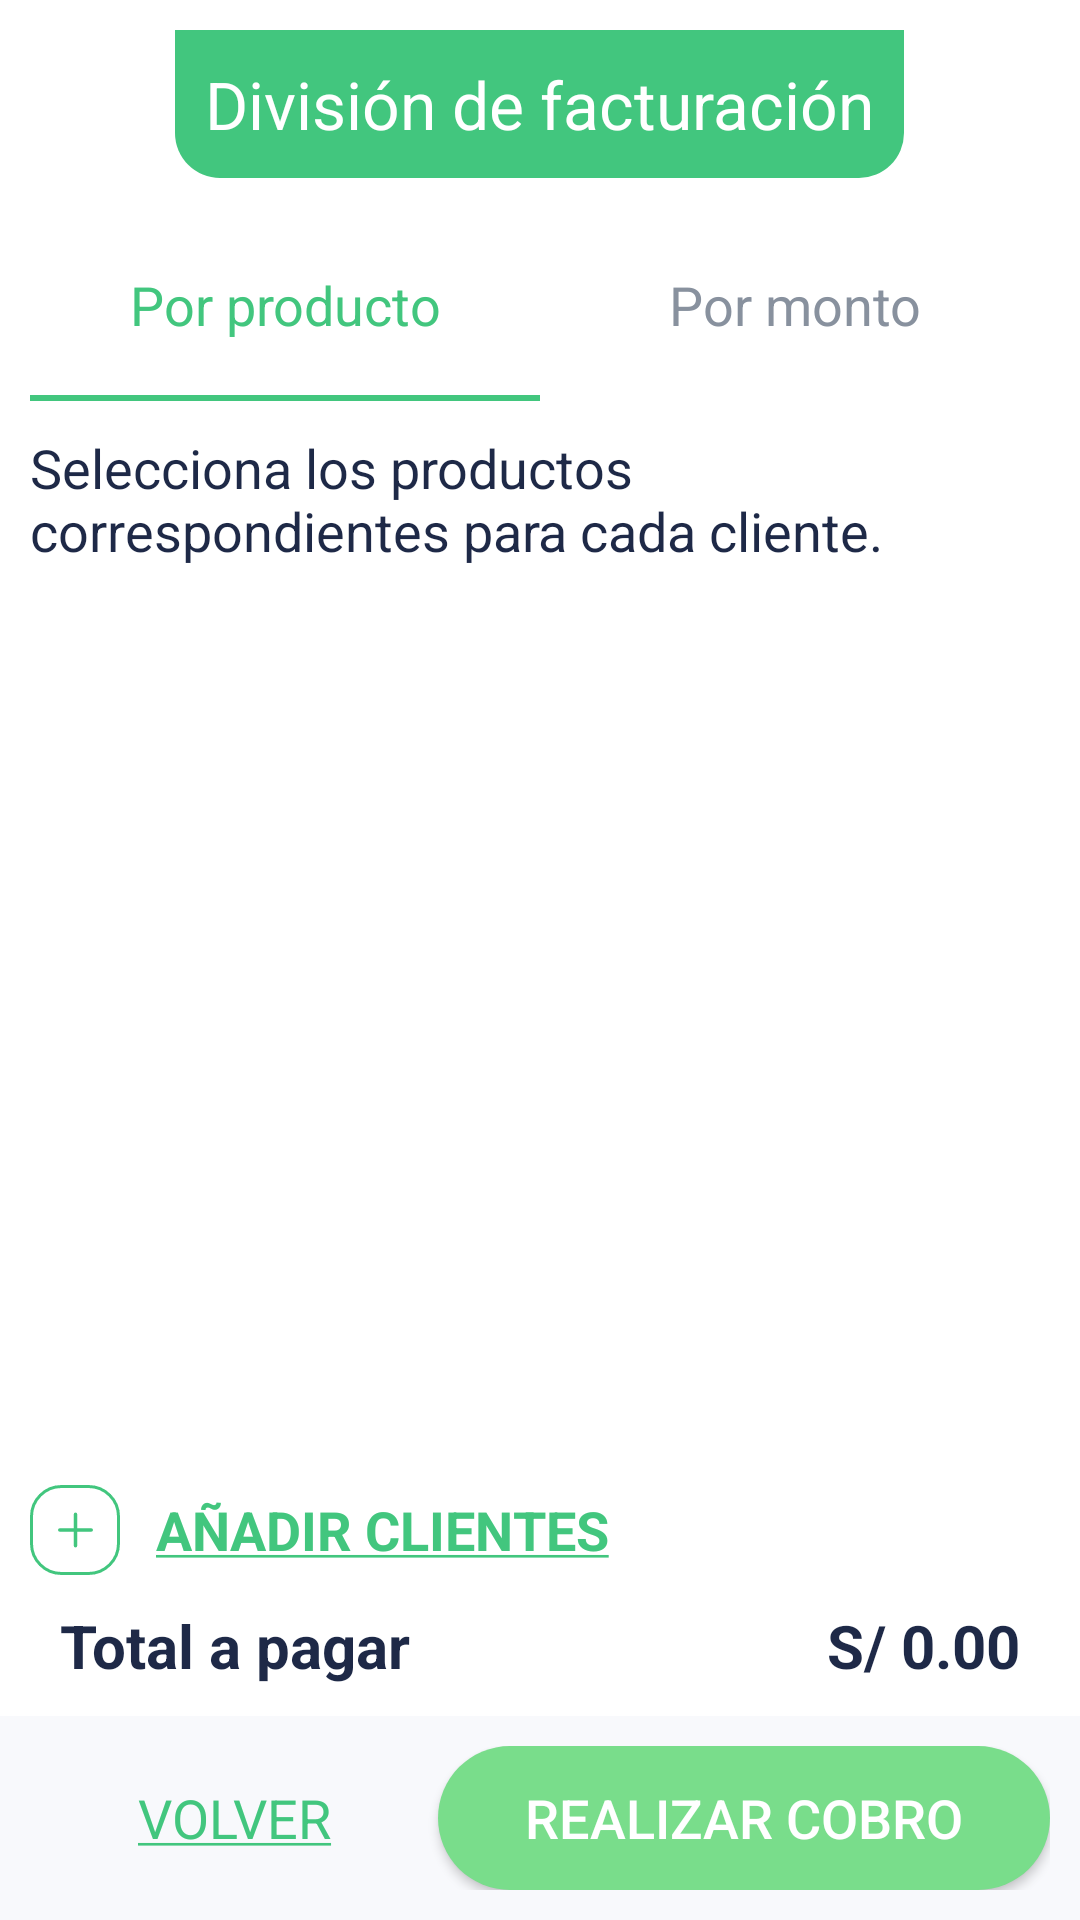

Named icons in this screenshot (1080 x 1920) and their centers, point (x, y):
pedido mas: point (75, 1530)
